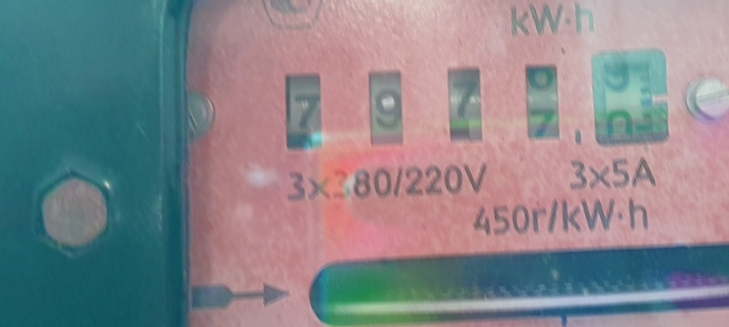0: (599, 102, 634, 143)
7: (287, 89, 320, 133), (445, 76, 478, 120), (523, 104, 556, 141)
9: (366, 84, 403, 132), (597, 55, 630, 93)
screen: (258, 26, 694, 189)
